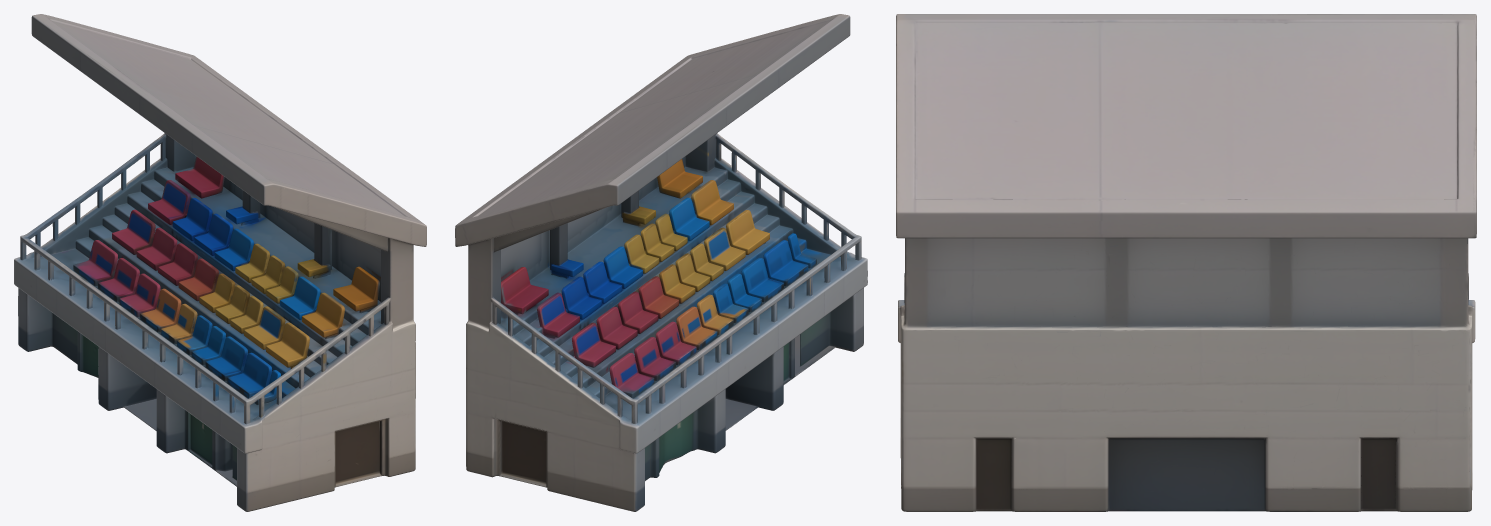
Rendered from building.glb.
The picture shows the model from 3 angles, left to right: view 1: azimuth 30°, elevation 25°; view 2: azimuth 150°, elevation 25°; view 3: azimuth 270°, elevation 25°; orthographic projection. The views are drawn at different scales.
Parts seen in each view (by area): view 1: node_0; view 2: node_0; view 3: node_0.
Part boxes in pixels (box(x1,y1,x2,y2)): node_0: box(14, 14, 426, 511); node_0: box(455, 14, 867, 511); node_0: box(896, 14, 1476, 511).
Bounding box in the file's own units: 0.4106 × 0.7013 × 0.9111.
Materials: 1 (1 with a texture image).
